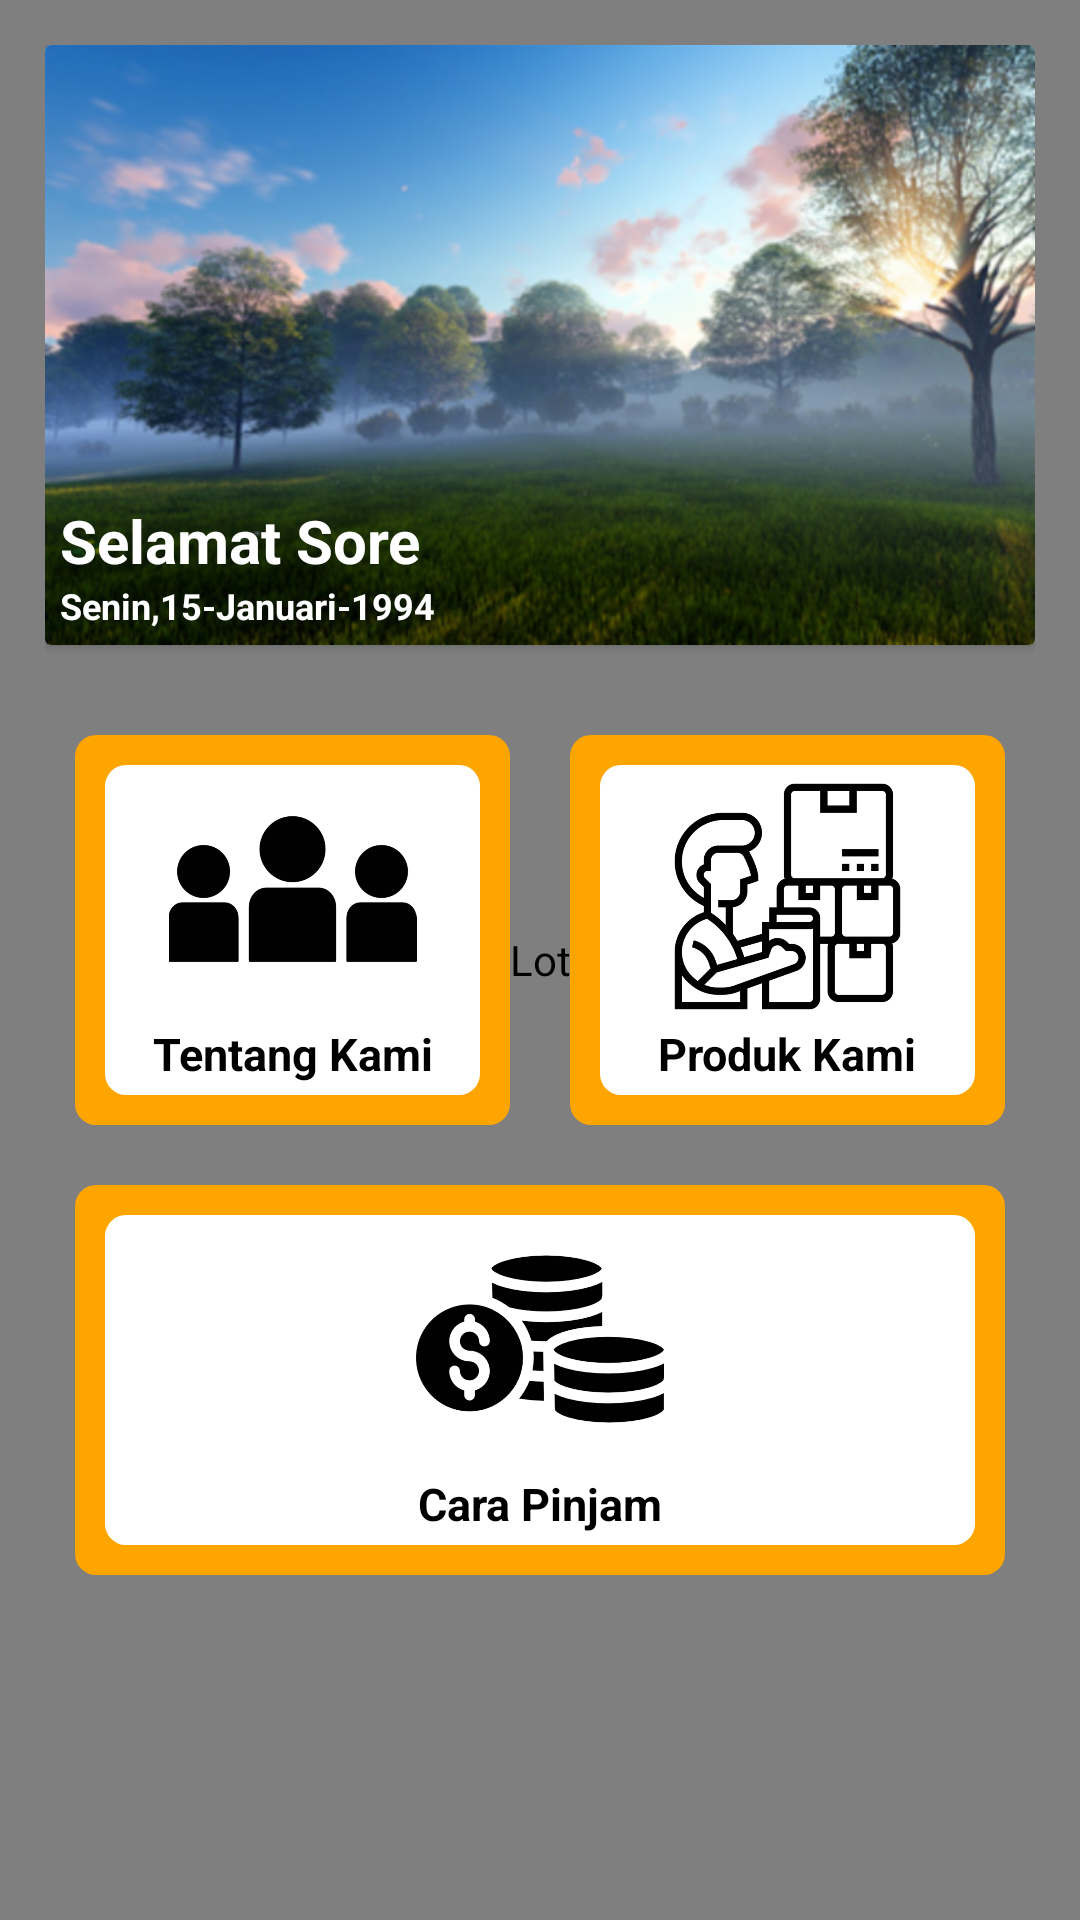

Where to tap for icons on this 1080px x 1920px app screen, as point (x, y):
money: point (540, 1339)
